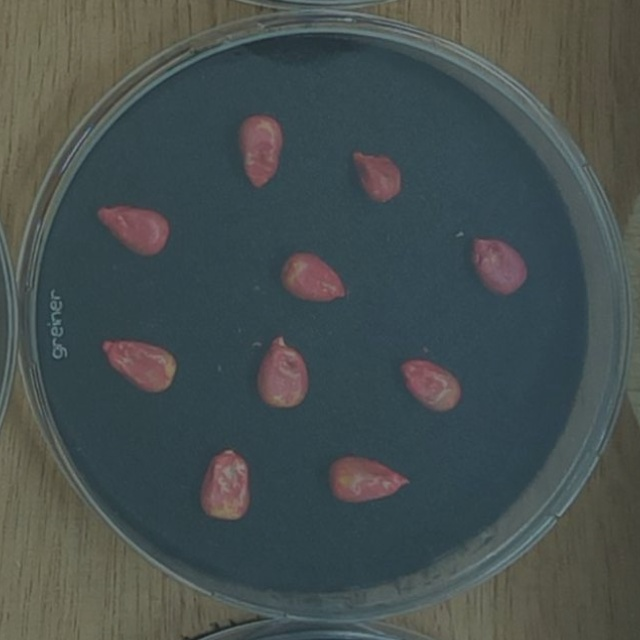Zea mays: (321, 444, 413, 511), (94, 331, 182, 401), (89, 196, 175, 264), (248, 327, 313, 415), (272, 241, 355, 309), (391, 350, 470, 421), (462, 227, 534, 301), (193, 444, 257, 525), (231, 109, 287, 196), (342, 142, 407, 210)
